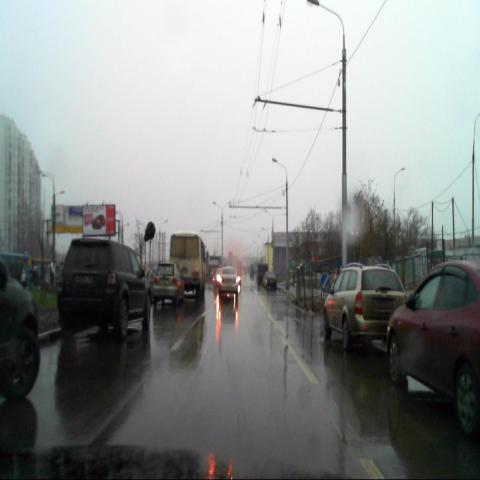4_2_2: (319, 273, 329, 291)
